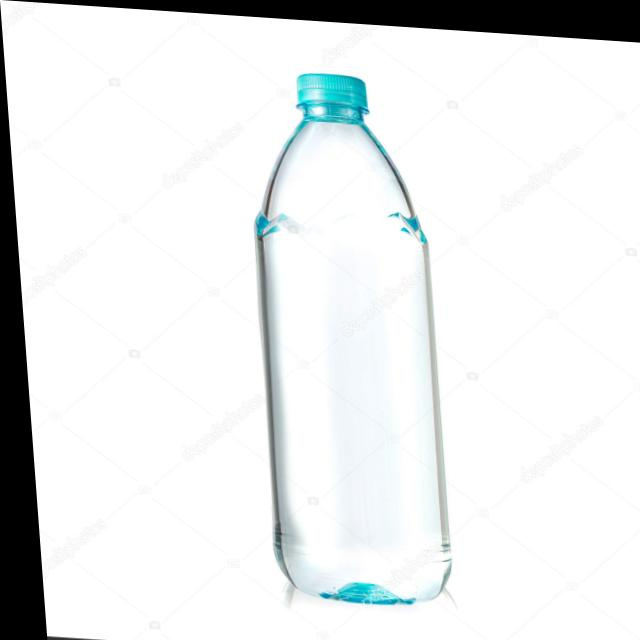bottle: (229, 62, 458, 607)
